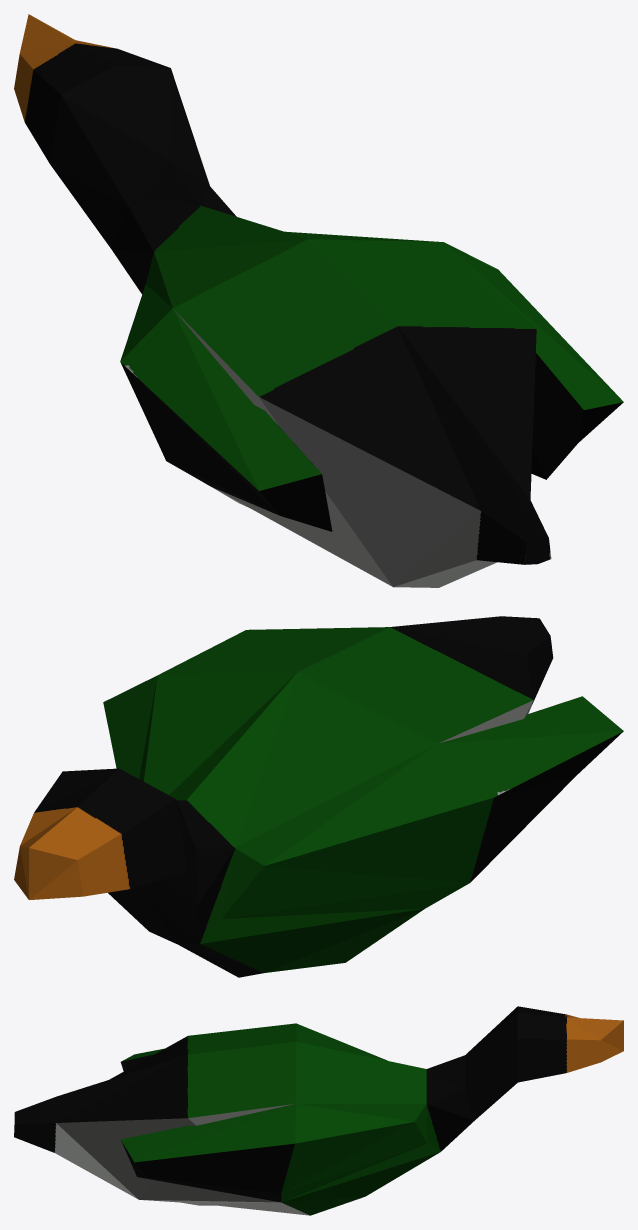
The model's file is duck.obj.
3 views of the same model, one above another, from view 1: azimuth 30°, elevation 25°; view 2: azimuth 150°, elevation 25°; view 3: azimuth 270°, elevation 25° (orthographic). The views are drawn at different scales.
Parts seen in each view (by area): view 1: Cube; view 2: Cube; view 3: Cube.
Part boxes in pixels (box(x1,y1,x2,y2)): Cube: box(14, 14, 623, 587); Cube: box(14, 616, 623, 977); Cube: box(14, 1006, 623, 1215).
Size of the model in its own units: 1.88 by 1.49 by 4.34.
